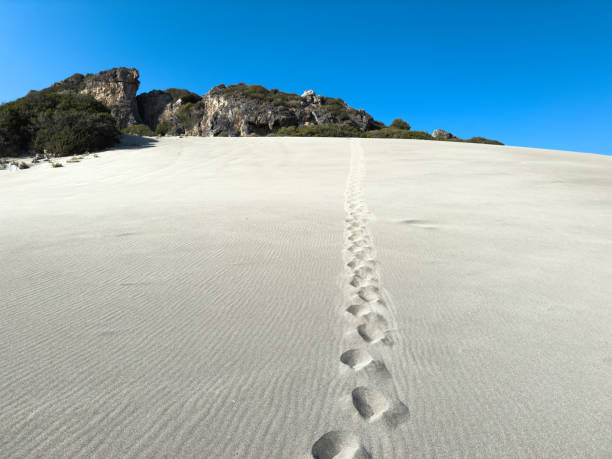human_footprint: (340, 148, 408, 427)
